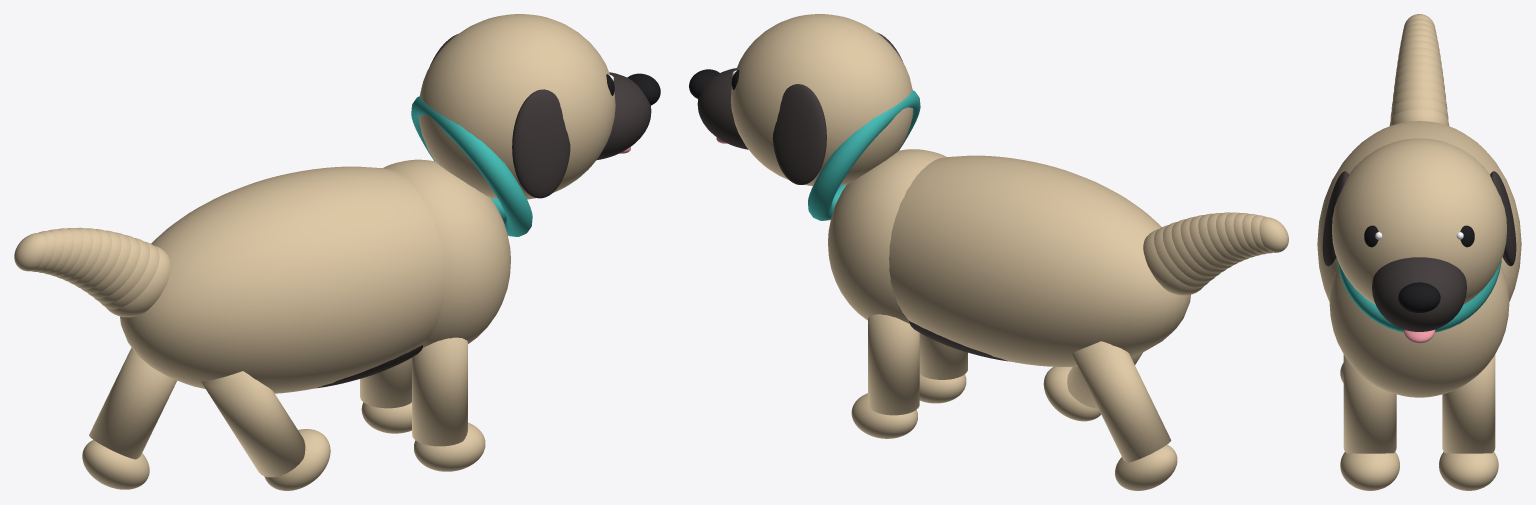
File: pug.glb
3 views of the same model, side by side, from view 1: azimuth 30°, elevation 25°; view 2: azimuth 150°, elevation 25°; view 3: azimuth 270°, elevation 25° (orthographic). The views are drawn at different scales.
Parts seen in each view (by area): view 1: Body, Head, Chest, Leg3, Leg1, Leg2, Ear-1, Collar, Muzzle, Paw2, Leg0, Paw1 (+8 smaller); view 2: Body, Head, Chest, Leg2, Leg0, Ear1, Collar, Muzzle, Paw2, Leg1, Paw0, Paw3 (+7 smaller); view 3: Head, Chest, Muzzle, Body, Leg0, Leg1, Paw0, Paw1, Collar, Nose, Ear1, Ear-1 (+14 smaller).
Part boxes in pixels (left/top/right/bottom): Body: left=120, top=166, right=445, bottom=393; Head: left=419, top=14, right=615, bottom=199; Chest: left=383, top=159, right=510, bottom=347; Leg3: left=201, top=371, right=305, bottom=477; Leg1: left=412, top=337, right=467, bottom=446; Leg2: left=89, top=347, right=176, bottom=459; Ear-1: left=512, top=89, right=570, bottom=198; Collar: left=411, top=96, right=532, bottom=236; Muzzle: left=596, top=72, right=651, bottom=160; Paw2: left=82, top=440, right=149, bottom=489; Leg0: left=360, top=357, right=411, bottom=408; Paw1: left=414, top=422, right=485, bottom=471; Body: left=889, top=155, right=1190, bottom=366; Head: left=731, top=14, right=913, bottom=186; Chest: left=828, top=149, right=946, bottom=323; Leg2: left=1072, top=341, right=1171, bottom=462; Leg0: left=868, top=314, right=919, bottom=415; Ear1: left=772, top=84, right=826, bottom=184; Collar: left=808, top=90, right=920, bottom=220; Muzzle: left=697, top=68, right=748, bottom=149; Paw2: left=1115, top=444, right=1177, bottom=490; Leg1: left=919, top=333, right=967, bottom=379; Paw0: left=851, top=393, right=917, bottom=438; Paw3: left=1043, top=367, right=1101, bottom=421; Head: left=1332, top=138, right=1506, bottom=304; Chest: left=1329, top=266, right=1509, bottom=397; Muzzle: left=1372, top=257, right=1466, bottom=331; Body: left=1317, top=121, right=1521, bottom=301; Leg0: left=1442, top=354, right=1495, bottom=453; Leg1: left=1343, top=354, right=1396, bottom=453; Paw0: left=1439, top=452, right=1498, bottom=490; Paw1: left=1340, top=452, right=1399, bottom=490; Collar: left=1337, top=260, right=1501, bottom=332; Nose: left=1398, top=282, right=1440, bottom=312; Ear1: left=1490, top=171, right=1516, bottom=266; Ear-1: left=1322, top=171, right=1348, bottom=266.
Size of the model in its own units: 1.99 by 1.2 by 0.58.
